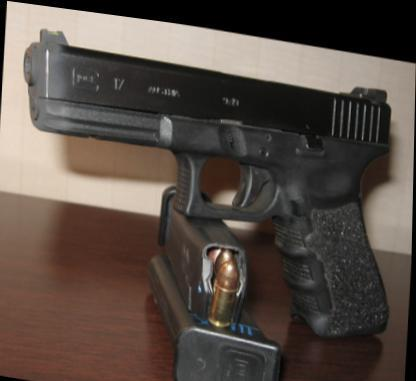pistol: (6, 14, 402, 334)
